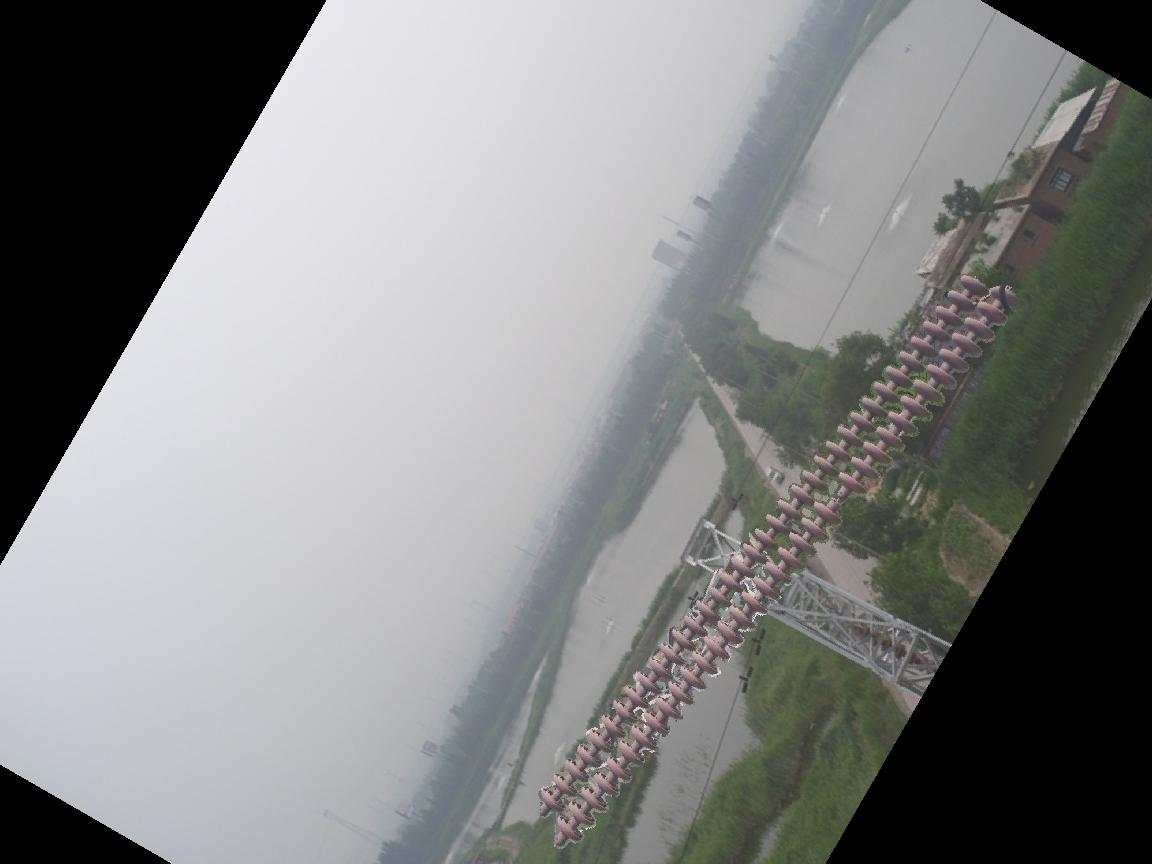insulator: (529, 273, 1022, 853)
insulator_stringdrop: (808, 468, 870, 525)
